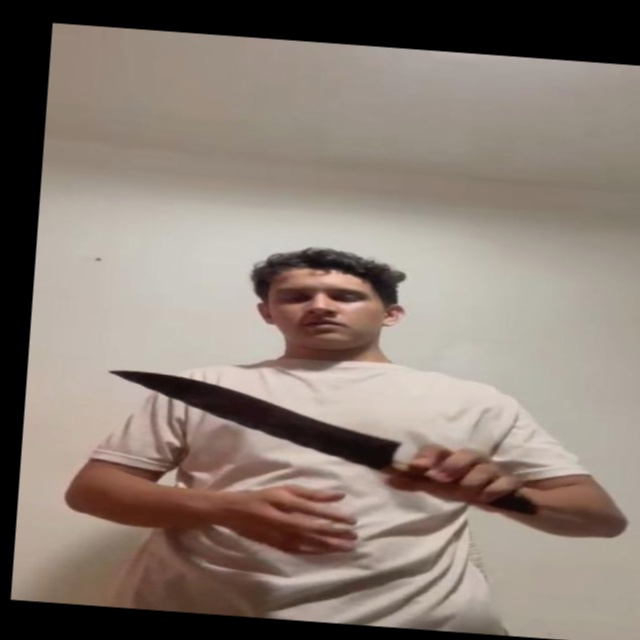Sharp-Object: (103, 366, 405, 472)
